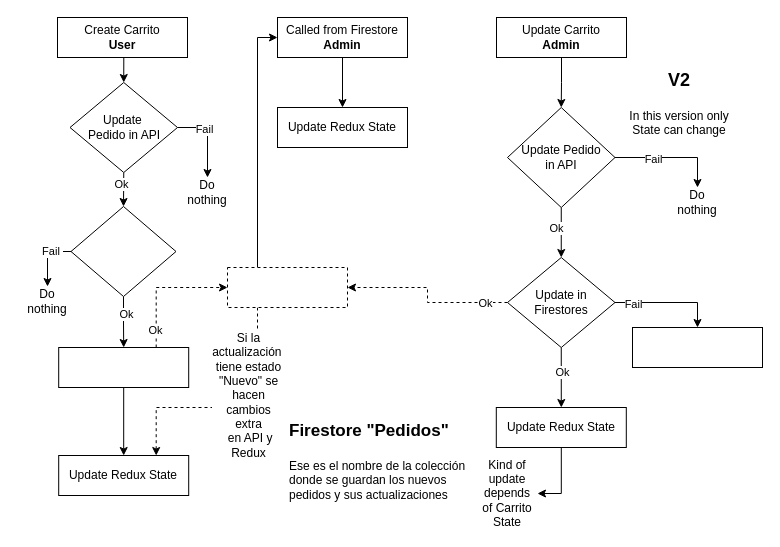
Some shapes in this 780 by 547 pixel diagram are drawn without their labels. Here are the shapes that lost their labels. From the top down, the centre of each, then its label:
At point (123, 251): "State Change".
At point (287, 287): "SNAPSHOT".
At point (123, 367): "Add To Firestore".
At point (697, 347): "Reload from API all Carritos | Pedidos".
